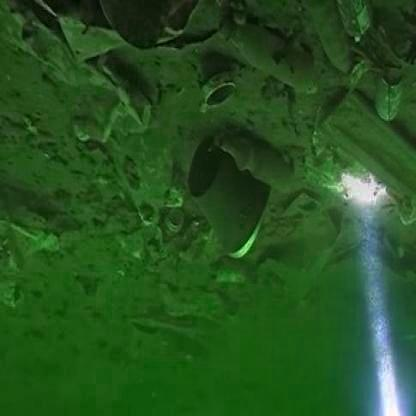plastic: (163, 134, 279, 272)
